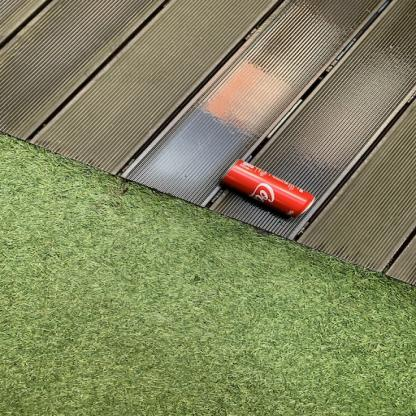trash: (219, 160, 318, 219)
